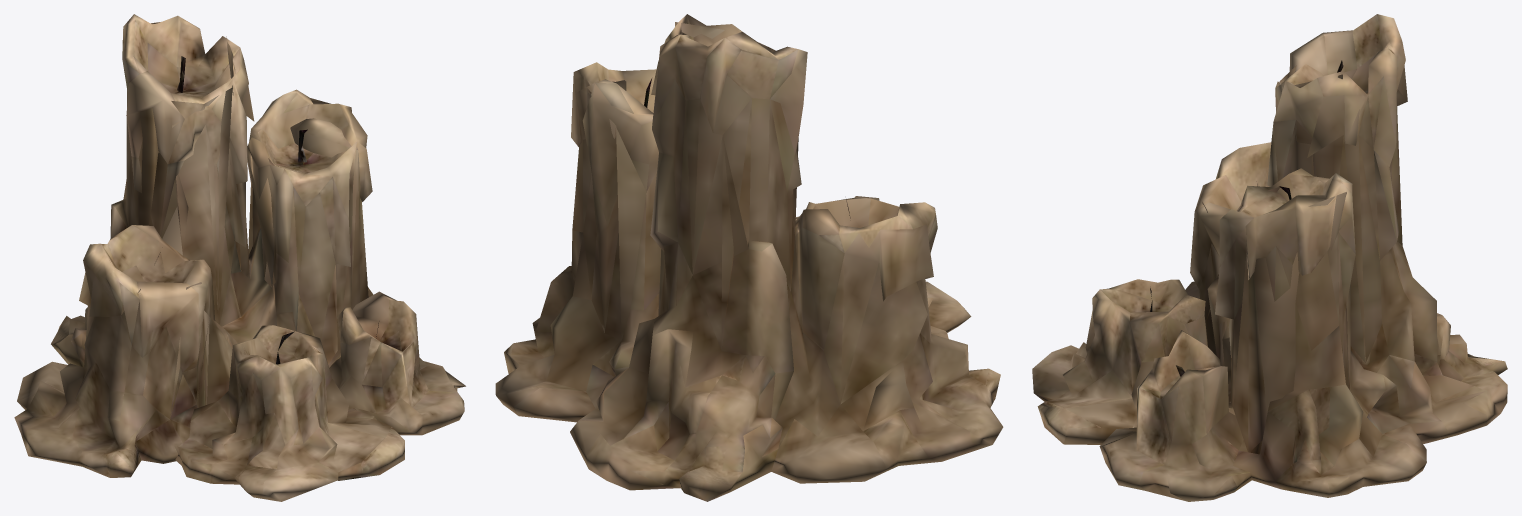
File: h_candle_melted.glb
The picture shows the model from 3 angles, left to right: view 1: azimuth 30°, elevation 25°; view 2: azimuth 150°, elevation 25°; view 3: azimuth 270°, elevation 25°; orthographic projection. The views are drawn at different scales.
Parts seen in each view (by area): view 1: h_candle_melted; view 2: h_candle_melted; view 3: h_candle_melted.
Boxes of the visible parts, x1,y1,x2,y2 form: h_candle_melted: [14, 14, 465, 501]; h_candle_melted: [495, 14, 1003, 501]; h_candle_melted: [1032, 14, 1507, 501].
Bounding box in the file's own units: 0.2933 × 0.2554 × 0.2961.
Materials: 1 (1 with a texture image).
